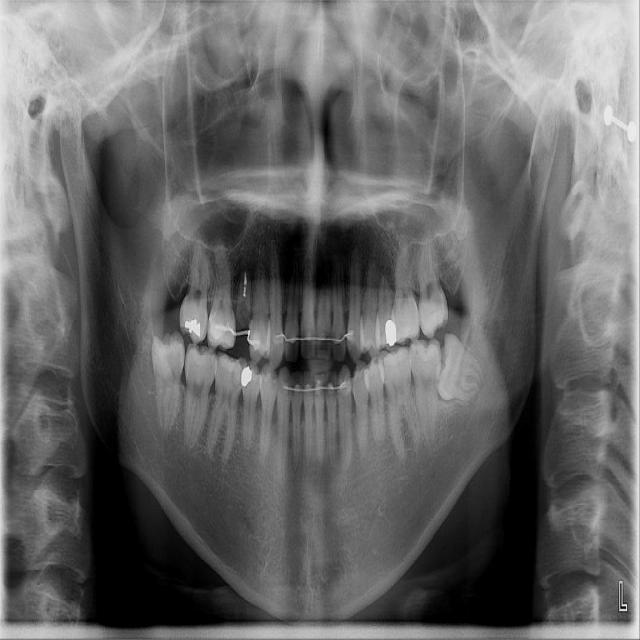Filling: (220, 357, 244, 394), (377, 318, 402, 347), (179, 318, 205, 341), (239, 364, 257, 392)
Root Piece: (235, 259, 250, 329)
impacted tooth: (151, 335, 185, 433), (440, 335, 490, 401)
